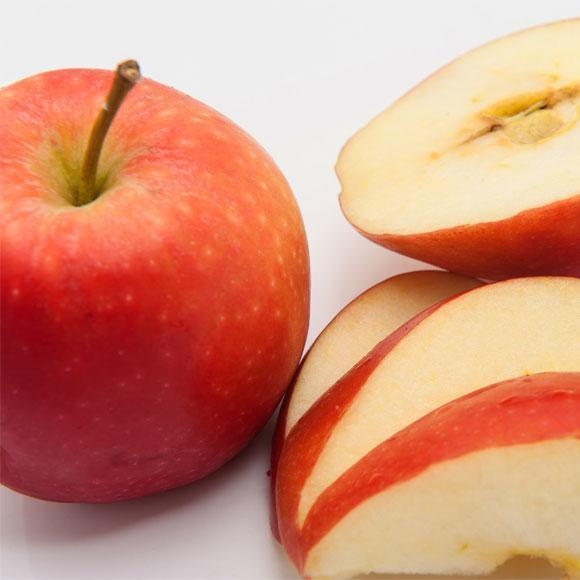apple: (1, 65, 311, 506), (278, 271, 580, 580), (333, 18, 579, 279)
